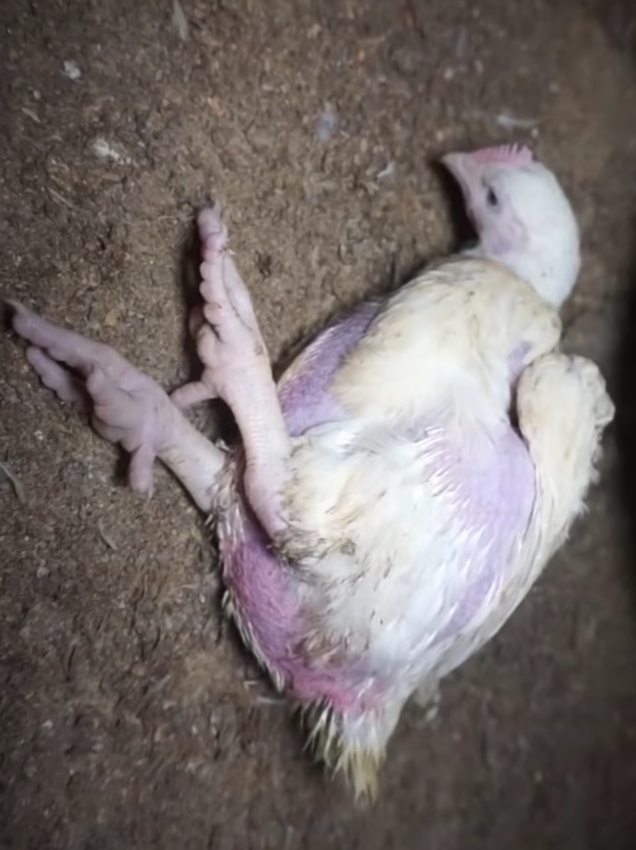Unhealthy: (15, 73, 618, 788)
